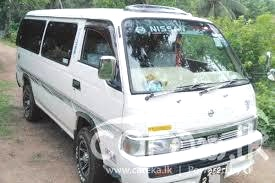van: (15, 5, 263, 181)
